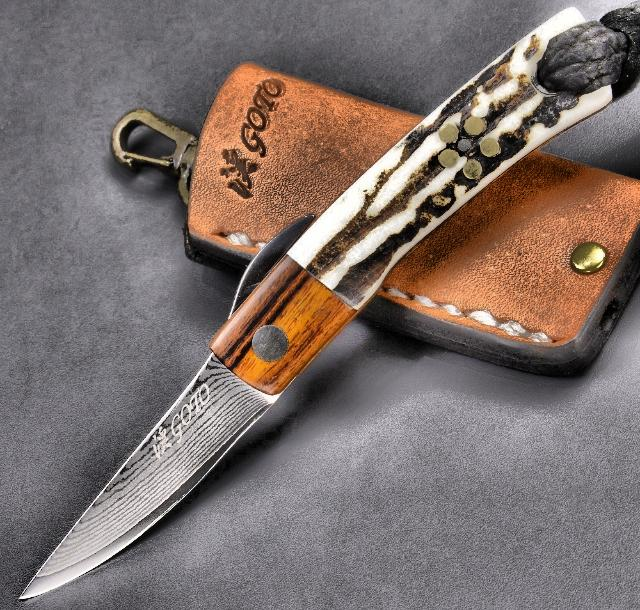knife: (13, 308, 289, 604)
